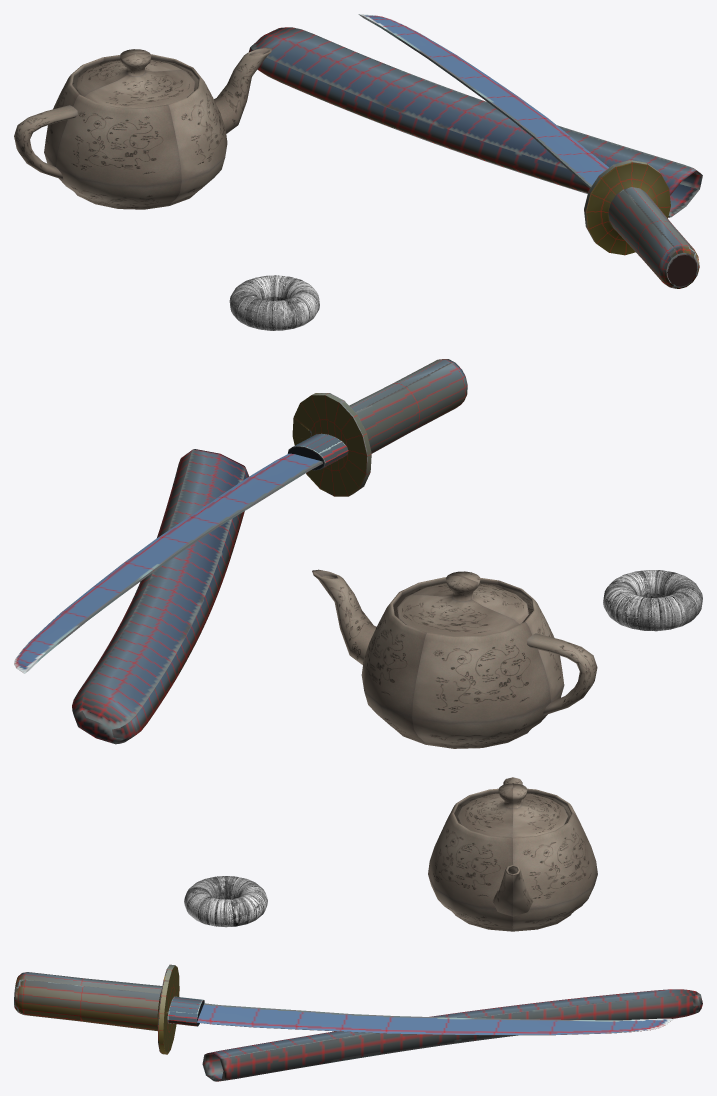
The model's file is testAxisZ.dae.
3 renders of one model, top to bottom at view 1: azimuth 30°, elevation 25°; view 2: azimuth 150°, elevation 25°; view 3: azimuth 270°, elevation 25°, orthographic. The views are drawn at different scales.
Parts seen in each view (by area): view 1: sword_cover1, Teapot001, pTorus1; view 2: sword_cover1, Teapot001, pTorus1; view 3: sword_cover1, Teapot001, pTorus1.
Boxes of the visible parts, x1,y1,x2,y2 form: sword_cover1: (249,14,702,288); Teapot001: (14,47,272,209); pTorus1: (229,275,319,330); sword_cover1: (14,359,467,744); Teapot001: (312,569,597,748); pTorus1: (603,570,702,631); sword_cover1: (14,964,702,1081); Teapot001: (428,777,597,931); pTorus1: (184,876,267,927).
Bounding box in the file's own units: 20.2 × 24.65 × 5.29.
